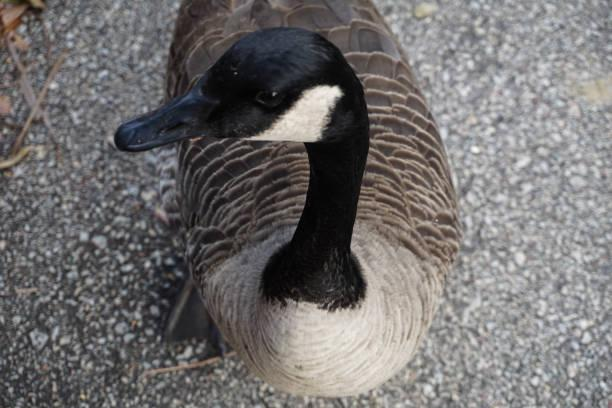Canadian-Goose: (108, 0, 474, 392)
